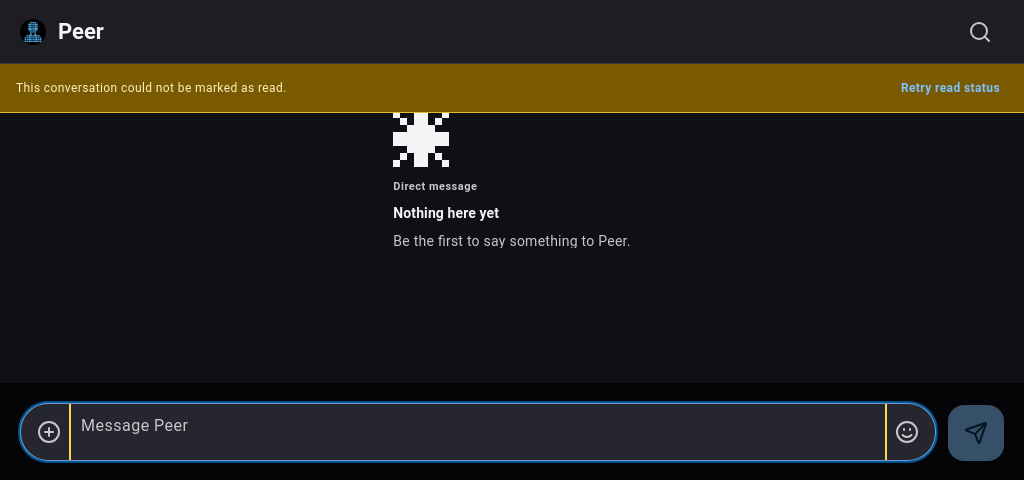
Test case: DmView message containment › surfaces and retries a DM mark-read failure after hydration
Click the button "Retry read status".
click(950, 88)  # box top-left (893, 72), bottom-right (1008, 104)
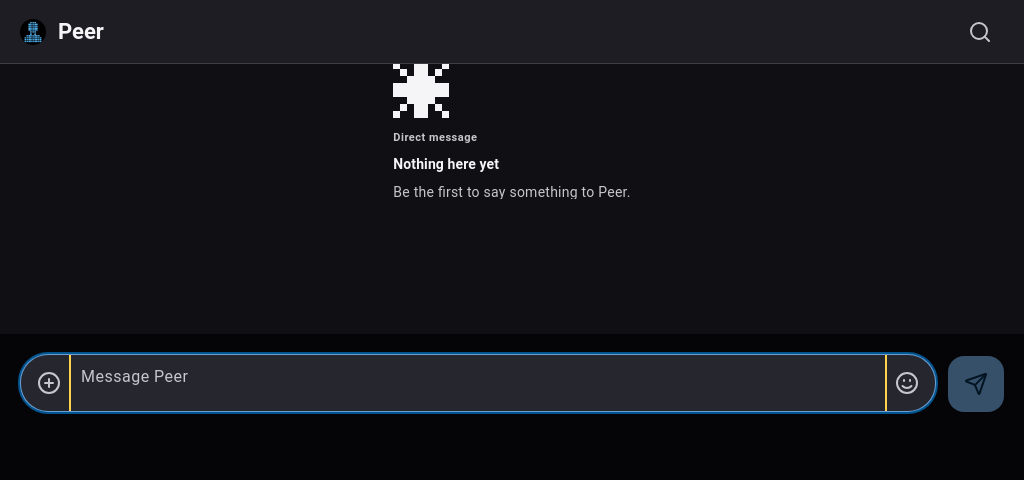
Expected: the text "This conversation could not be marked as read" is gone
